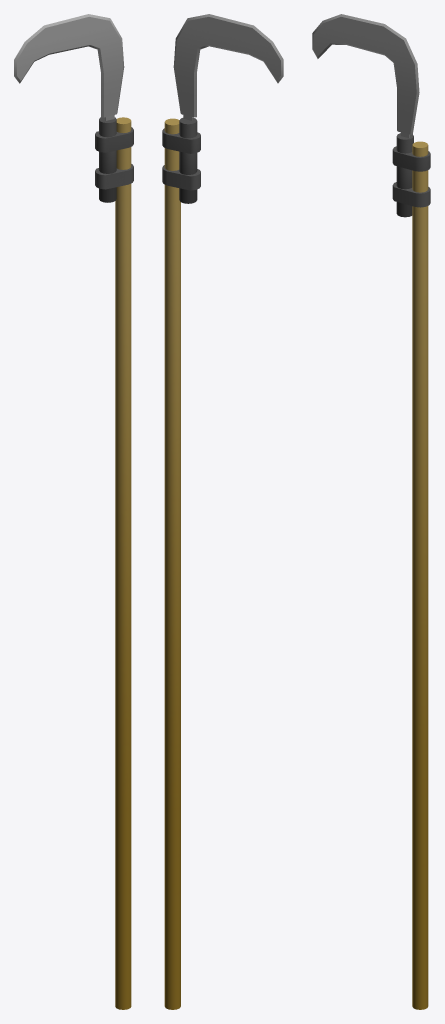
Rendered from SM_gayhaydua.fbx.
3 views of the same model, side by side, from view 1: azimuth 30°, elevation 25°; view 2: azimuth 150°, elevation 25°; view 3: azimuth 330°, elevation 25° (orthographic). The views are drawn at different scales.
Parts seen in each view (by area): view 1: SM_gaysaurieng; view 2: SM_gaysaurieng; view 3: SM_gaysaurieng.
Part boxes in pixels (x1,y1,x2,y2): SM_gaysaurieng: (14,14,133,1009); SM_gaysaurieng: (162,14,283,1009); SM_gaysaurieng: (312,14,430,1009).
Size of the model in its own units: 2.3 by 18.45 by 0.3556.
